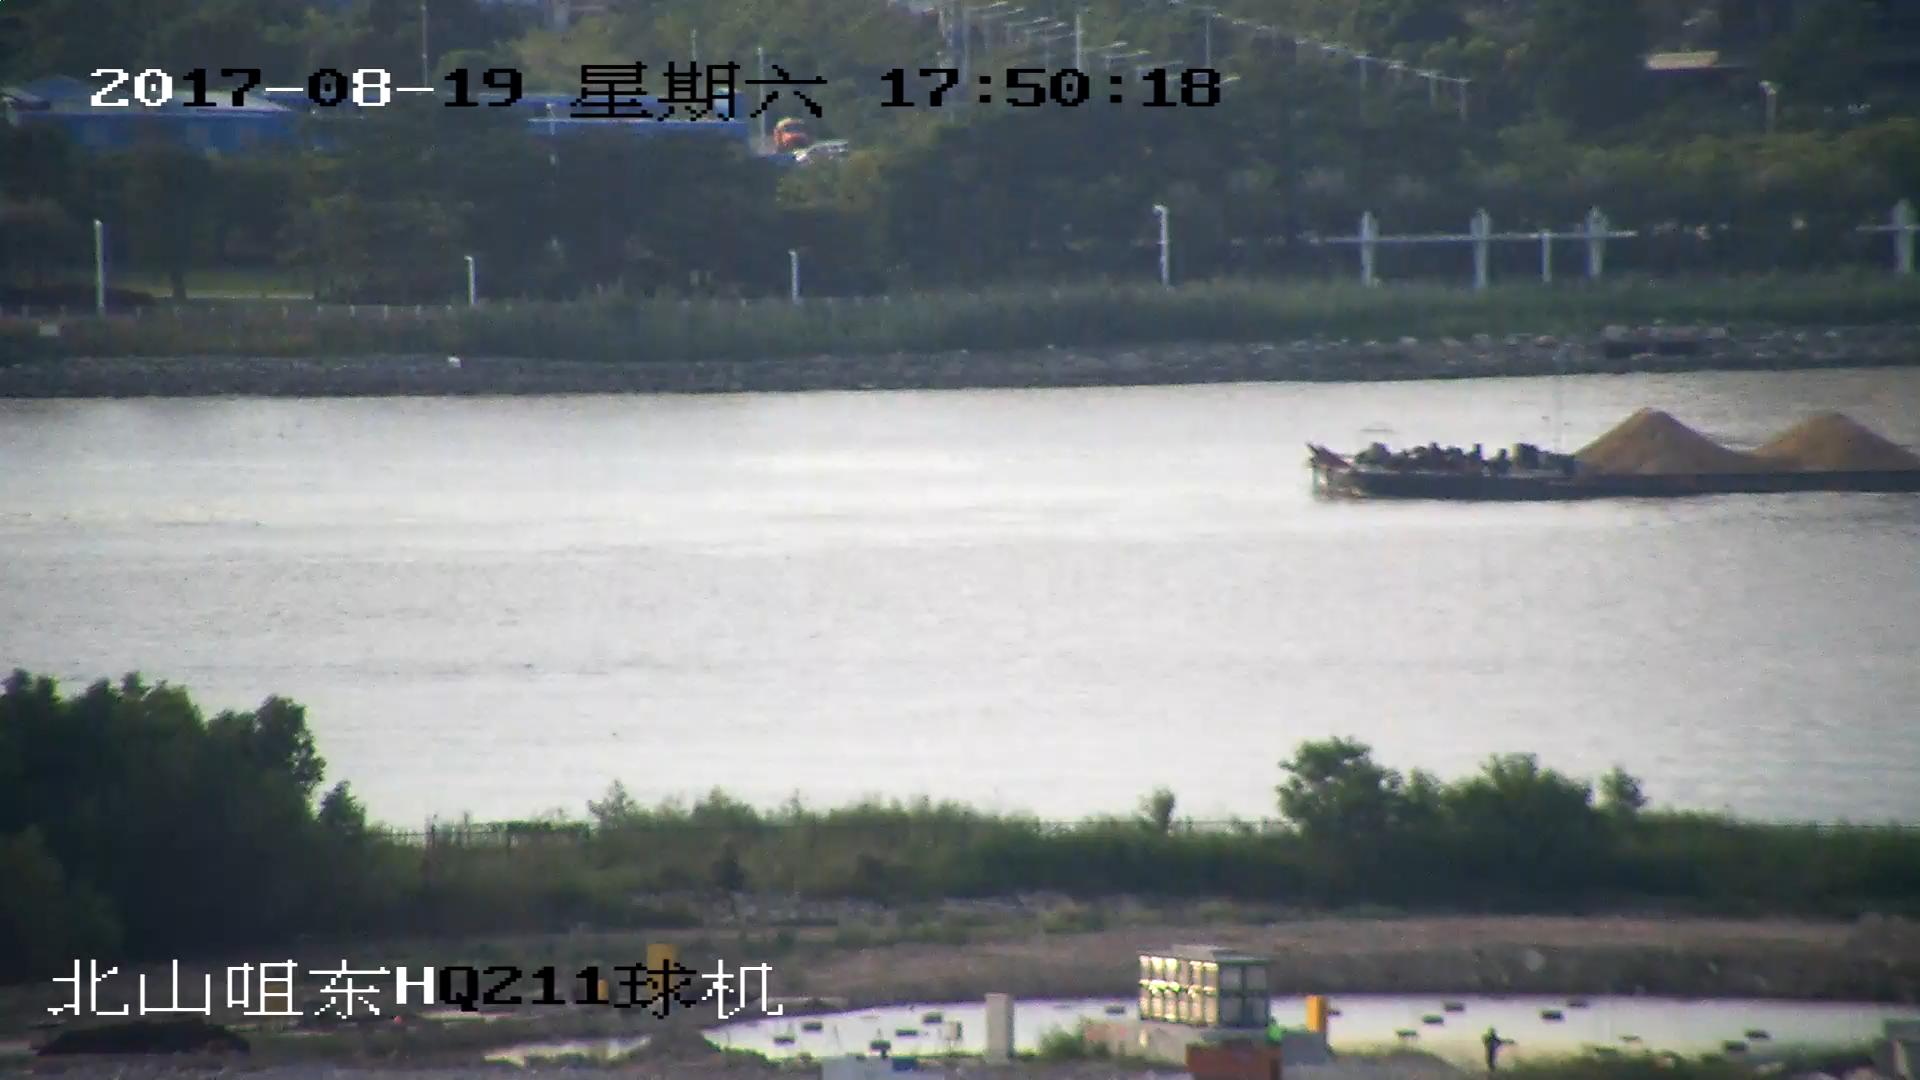ore carrier: (1300, 396, 1920, 507)
